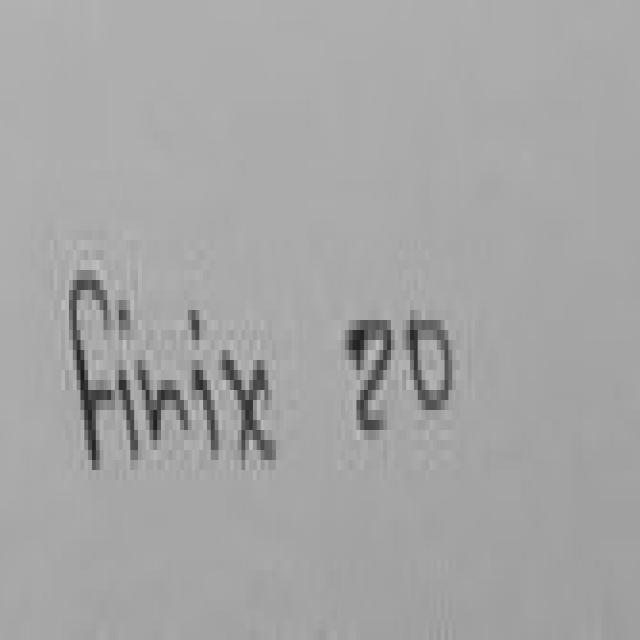0: (404, 265, 465, 467)
2: (330, 276, 399, 462)
F: (60, 243, 116, 483)
i: (188, 306, 222, 466), (114, 289, 142, 472)
n: (133, 342, 189, 460)
x: (224, 325, 283, 489)
